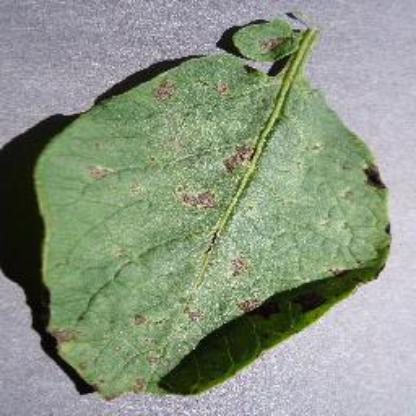Early-Blight: (26, 10, 398, 402)
